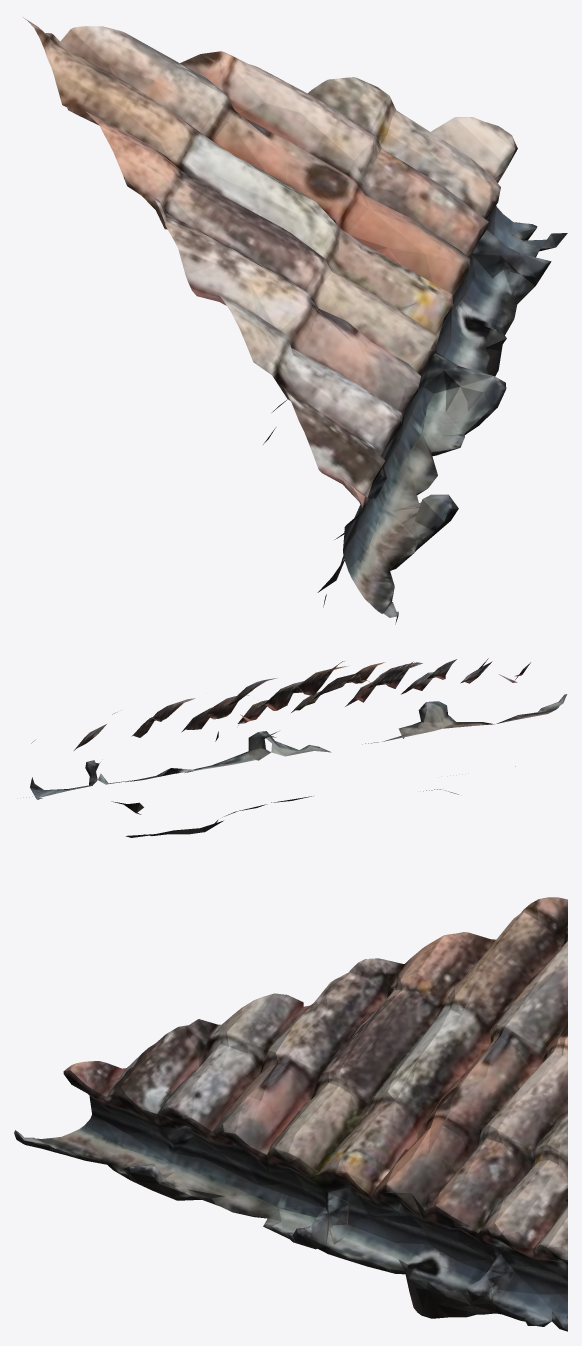
The picture shows the model from 3 angles, top to bottom: view 1: azimuth 30°, elevation 25°; view 2: azimuth 150°, elevation 25°; view 3: azimuth 270°, elevation 25°; orthographic projection. The views are drawn at different scales.
Size of the model in its own units: 1.29 by 0.9324 by 1.63.
3 materials, 3 textured.
